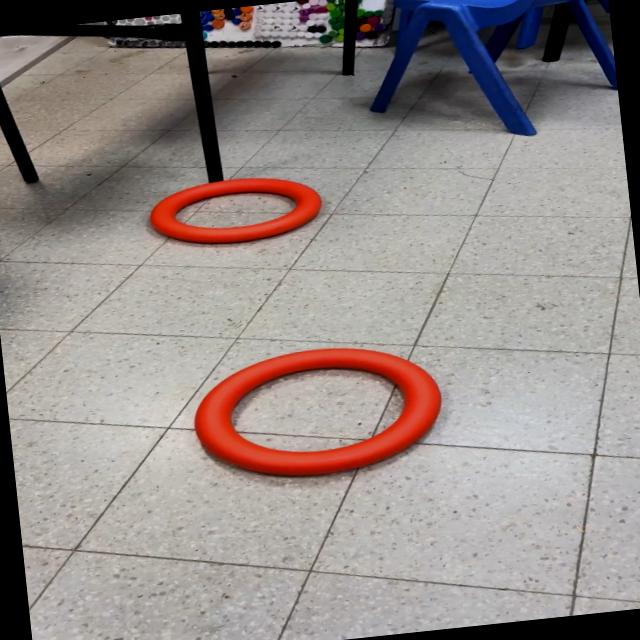note: (184, 334, 450, 490), (142, 168, 328, 254)
